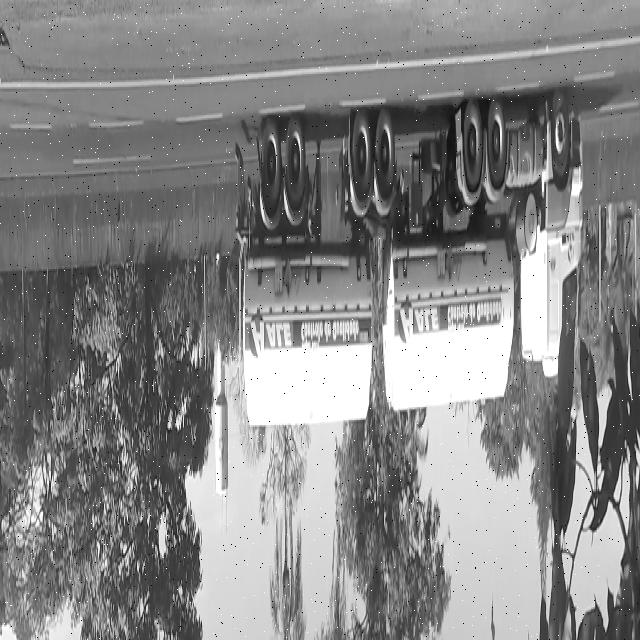-axle: (257, 108, 281, 220), (374, 101, 396, 211), (350, 100, 372, 208), (283, 113, 307, 211), (549, 84, 571, 186), (461, 84, 482, 188), (485, 91, 505, 190)
